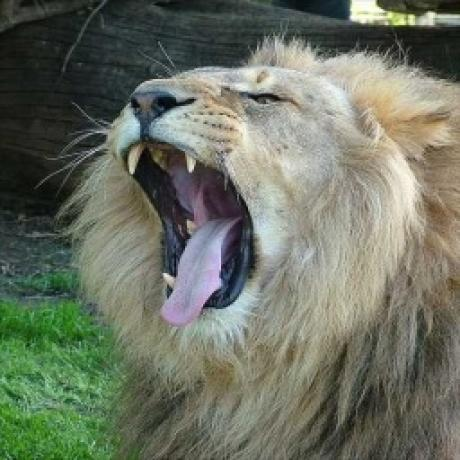Lion: (61, 34, 460, 460)
